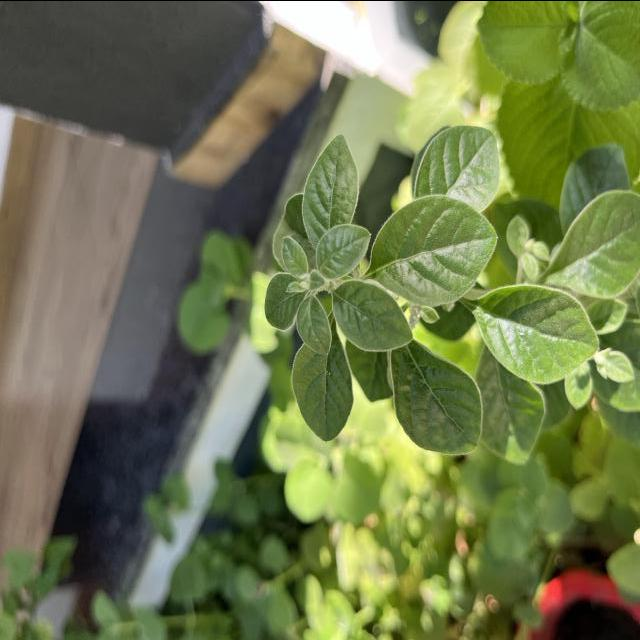Aerva lanata: (369, 190, 502, 308), (464, 280, 604, 386), (388, 336, 484, 458), (414, 120, 504, 214), (289, 326, 355, 444), (299, 129, 362, 240), (328, 276, 414, 353)
